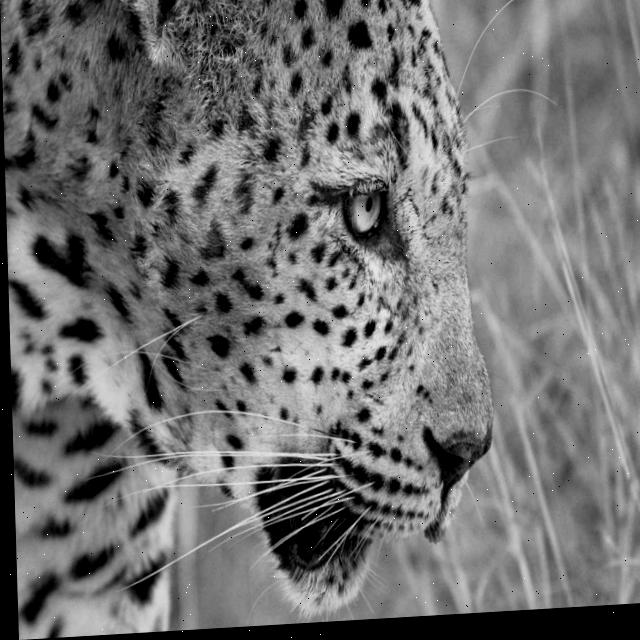Leopard: (0, 0, 568, 638)
